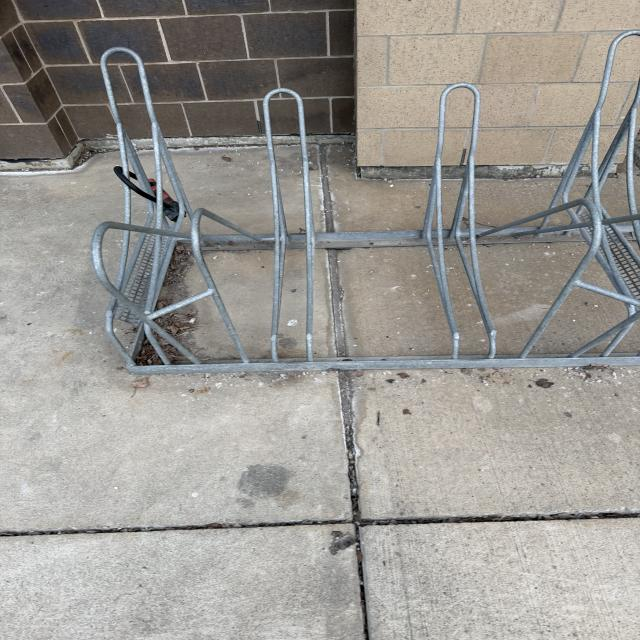Bicycle Rack: (84, 33, 640, 377)
